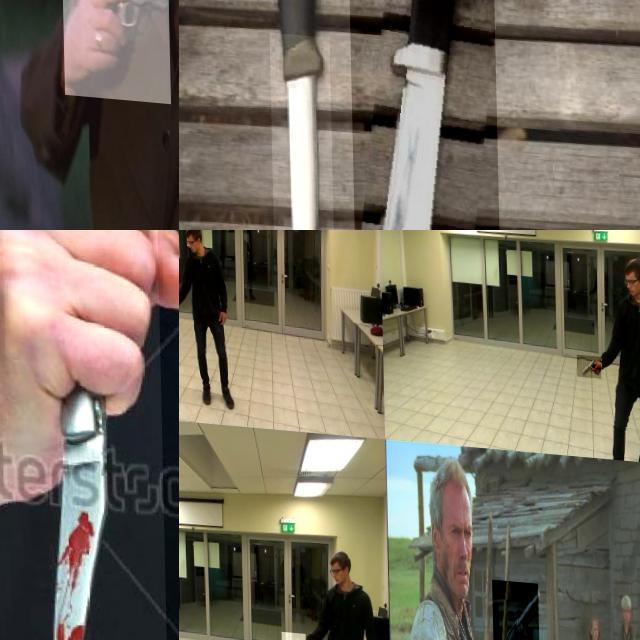-: (0, 230, 165, 640), (346, 0, 501, 230), (268, 30, 333, 230)
gun-knife-thesis - v11 Yolov5 augmented: (60, 0, 169, 100), (490, 571, 539, 640), (99, 0, 132, 46), (576, 346, 600, 368), (278, 628, 303, 640), (179, 293, 189, 315)
